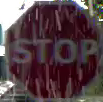Stop: (5, 1, 102, 101)
